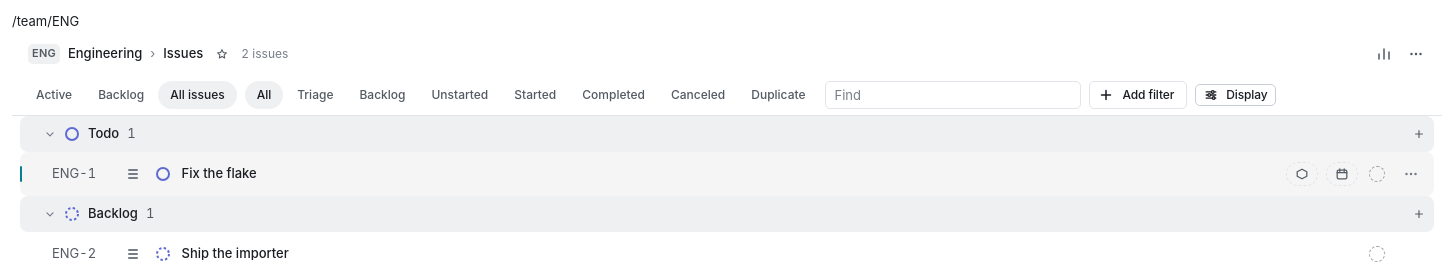
Scenario: issue category tabs › narrows by category without touching the scope filter
This screenshot has width=1452, height=279.
Click the 2nd button "Backlog": point(382, 95) [347,81,417,109]
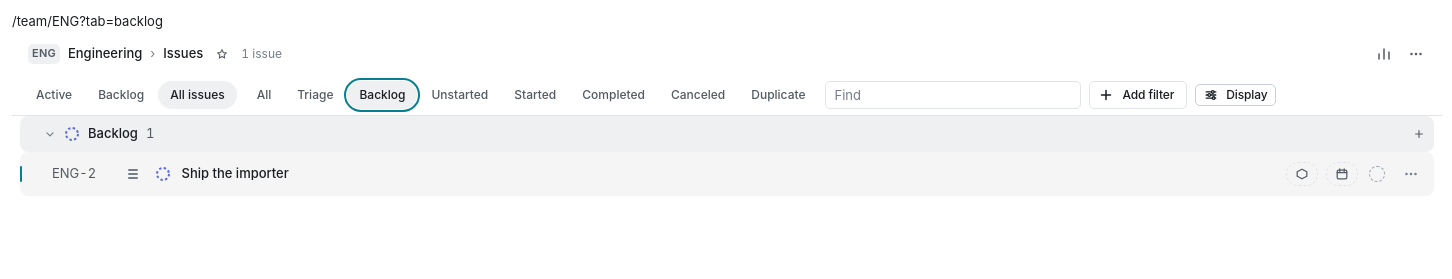
Check: the cells read "ENG-2Ship the importer", in this order, box [20,152,1434,196]
Check: the text with test id "location" shows "tab=backlog", box [12,13,163,29]
